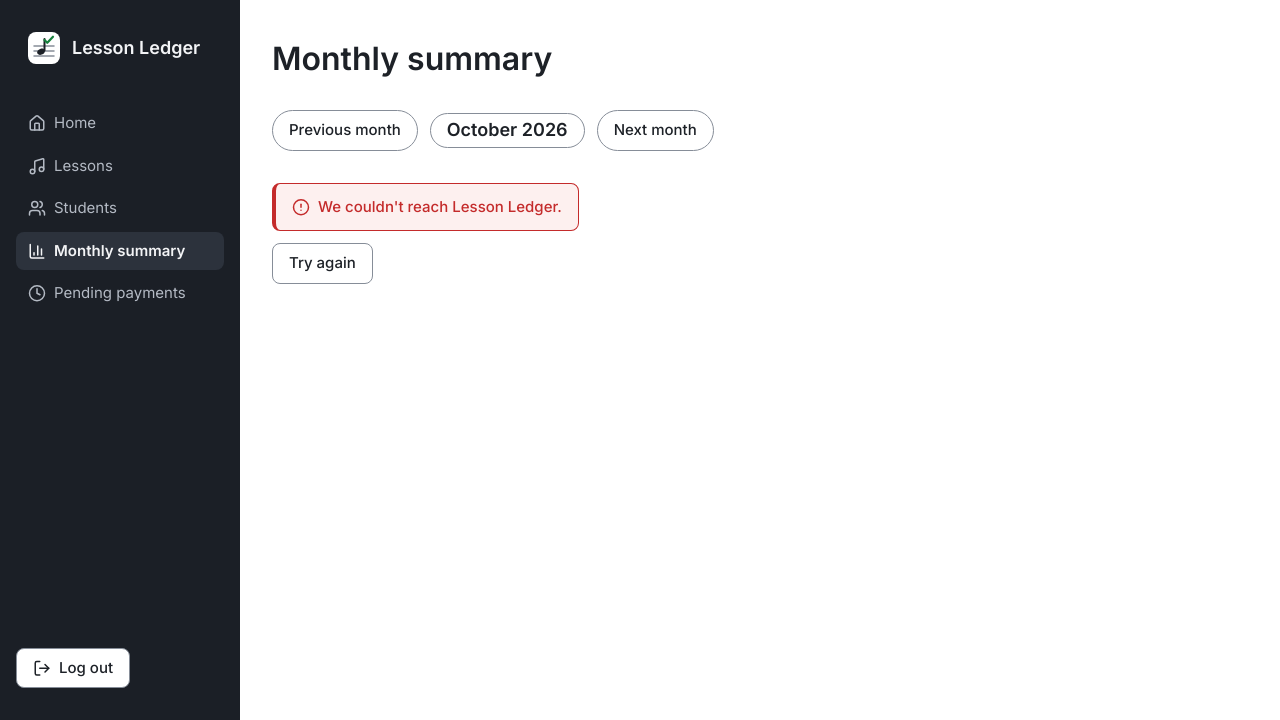
Test: AC-6 load failures › /summary shows the load error when the summary load fails, and Try again reloads
Expected: the heading "October 2026" is shown, [430, 114, 585, 148]
Click the button "Try again" at (322, 264), box [272, 243, 373, 284]
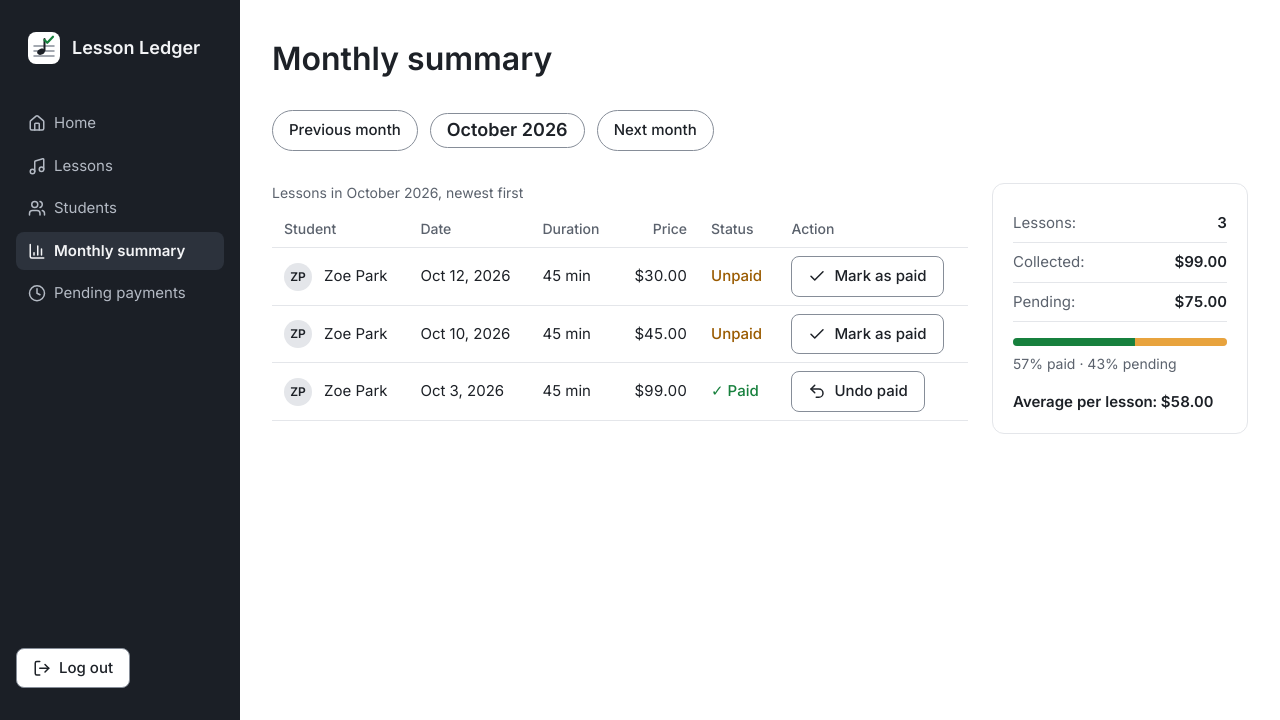
Result: the table is shown at [272, 183, 968, 421]
